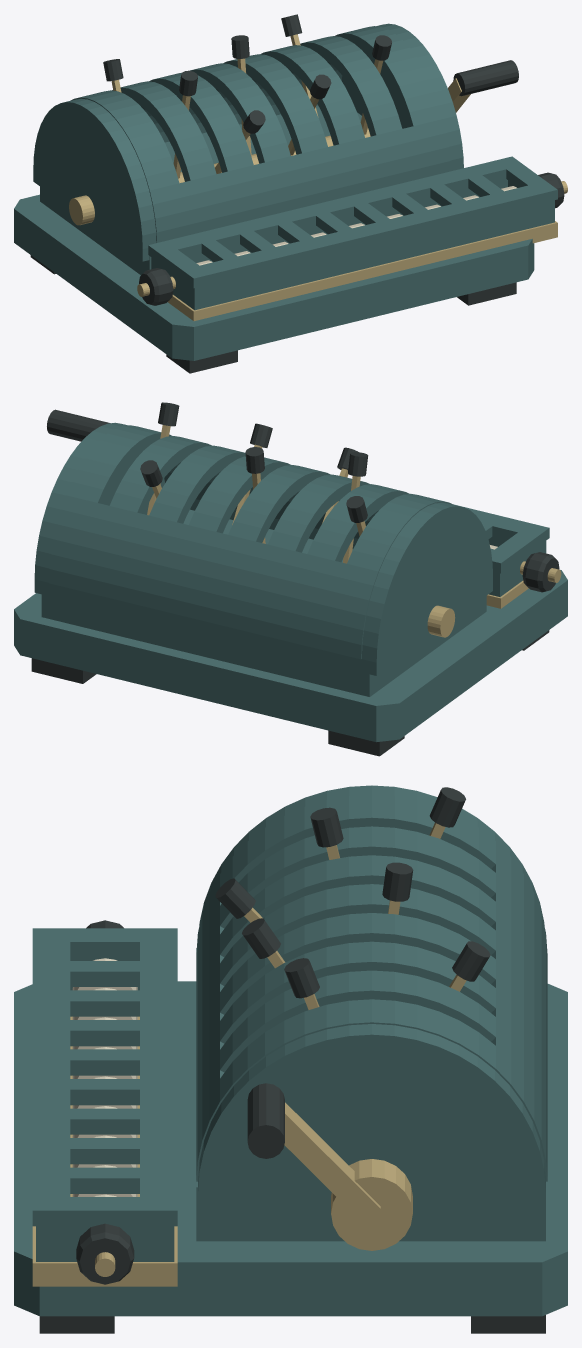
3 renders of one model, top to bottom at view 1: azimuth 30°, elevation 25°; view 2: azimuth 150°, elevation 25°; view 3: azimuth 270°, elevation 25°, orthographic. The views are drawn at different scales.
Parts seen in each view (by area): view 1: WholeSevenSlotArchedSelectorCover, WholeChamferedMachineBase, WholeNineWindowCarriagePlate, LeftWholeArchedBarrelCheek, WholeCarriageWallFront, WholeOffsetCarriageFloor, RightWholeArchedBarrelCheek, WholeSelectorLowerBed, WholeCrankEndGrip, WholeCarriageWallBack, WholeCarriageResetKnobLeft, WholeSelectorAxle (+3 smaller); view 2: WholeSevenSlotArchedSelectorCover, WholeChamferedMachineBase, WholeSelectorLowerBed, LeftWholeArchedBarrelCheek, RightWholeArchedBarrelCheek, WholeNineWindowCarriagePlate, WholeCrankEndGrip, WholeCarriageResetKnobLeft, WholeLowGroundFoot2, WholeLowGroundFoot3, WholeSelectorAxle, WholeCarriageEndLeft (+5 smaller); view 3: WholeSevenSlotArchedSelectorCover, WholeChamferedMachineBase, RightWholeArchedBarrelCheek, WholeNineWindowCarriagePlate, WholeSelectorLowerBed, WholeRightCrankHub, WholeOffsetCrankArm, WholeOffsetCarriageFloor, LeftWholeArchedBarrelCheek, WholeCrankEndGrip, WholeCarriageResetKnobRight, WholeCarriageEndRight (+9 smaller).
Boxes of the visible parts, <box> form: WholeSevenSlotArchedSelectorCover: <box>71,26,450,242</box>; WholeChamferedMachineBase: <box>14,194,534,360</box>; WholeNineWindowCarriagePlate: <box>148,156,557,287</box>; LeftWholeArchedBarrelCheek: <box>33,98,156,261</box>; WholeCarriageWallFront: <box>187,200,554,310</box>; WholeOffsetCarriageFloor: <box>168,221,557,321</box>; RightWholeArchedBarrelCheek: <box>341,23,463,171</box>; WholeSelectorLowerBed: <box>40,105,361,274</box>; WholeCrankEndGrip: <box>453,60,518,96</box>; WholeCarriageWallBack: <box>151,179,507,269</box>; WholeCarriageResetKnobLeft: <box>139,268,173,305</box>; WholeSelectorAxle: <box>69,128,370,225</box>; WholeSevenSlotArchedSelectorCover: <box>49,425,453,659</box>; WholeChamferedMachineBase: <box>14,570,567,742</box>; WholeSelectorLowerBed: <box>41,509,486,696</box>; LeftWholeArchedBarrelCheek: <box>355,502,492,675</box>; RightWholeArchedBarrelCheek: <box>34,422,164,595</box>; WholeNineWindowCarriagePlate: <box>453,504,549,573</box>; WholeCrankEndGrip: <box>47,409,110,441</box>; WholeCarriageResetKnobLeft: <box>522,552,559,592</box>; WholeLowGroundFoot2: <box>328,730,404,756</box>; WholeLowGroundFoot3: <box>31,658,96,683</box>; WholeSelectorAxle: <box>427,605,455,637</box>; WholeCarriageEndLeft: <box>504,546,538,593</box>; WholeSevenSlotArchedSelectorCover: <box>196,794,547,1181</box>; WholeChamferedMachineBase: <box>14,981,567,1316</box>; RightWholeArchedBarrelCheek: <box>198,1024,545,1212</box>; WholeNineWindowCarriagePlate: <box>32,928,177,1226</box>; WholeSelectorLowerBed: <box>196,948,545,1241</box>; WholeRightCrankHub: <box>331,1159,412,1250</box>; WholeOffsetCrankArm: <box>284,1102,380,1222</box>; WholeOffsetCarriageFloor: <box>32,1016,177,1286</box>; LeftWholeArchedBarrelCheek: <box>199,785,544,925</box>; WholeCrankEndGrip: <box>247,1083,284,1158</box>; WholeCarriageResetKnobRight: <box>76,1223,134,1284</box>; WholeCarriageEndRight: <box>48,1226,162,1261</box>.
Size of the model in its own units: 0.457 by 0.22 by 0.325.
